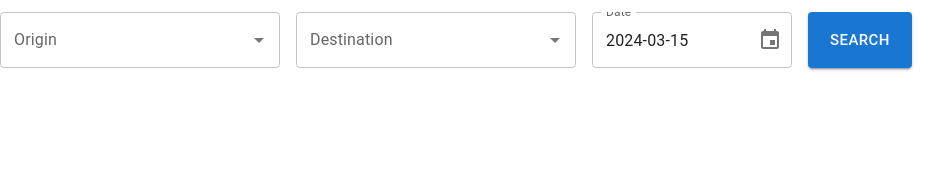
Test: SearchForm › shows validation error when submitting without selecting an airport
The image size is (935, 172).
Click the button "Search": [860, 40] box [808,12,912,68]
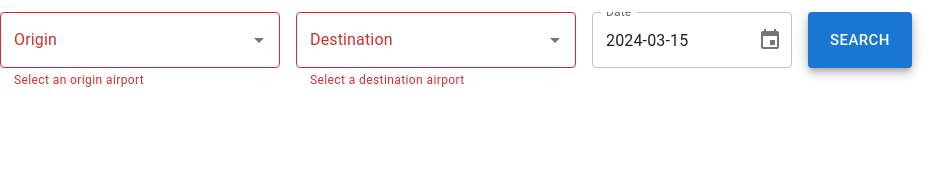
Now the text "Select an origin airport" is shown, box [14,73,144,87]
